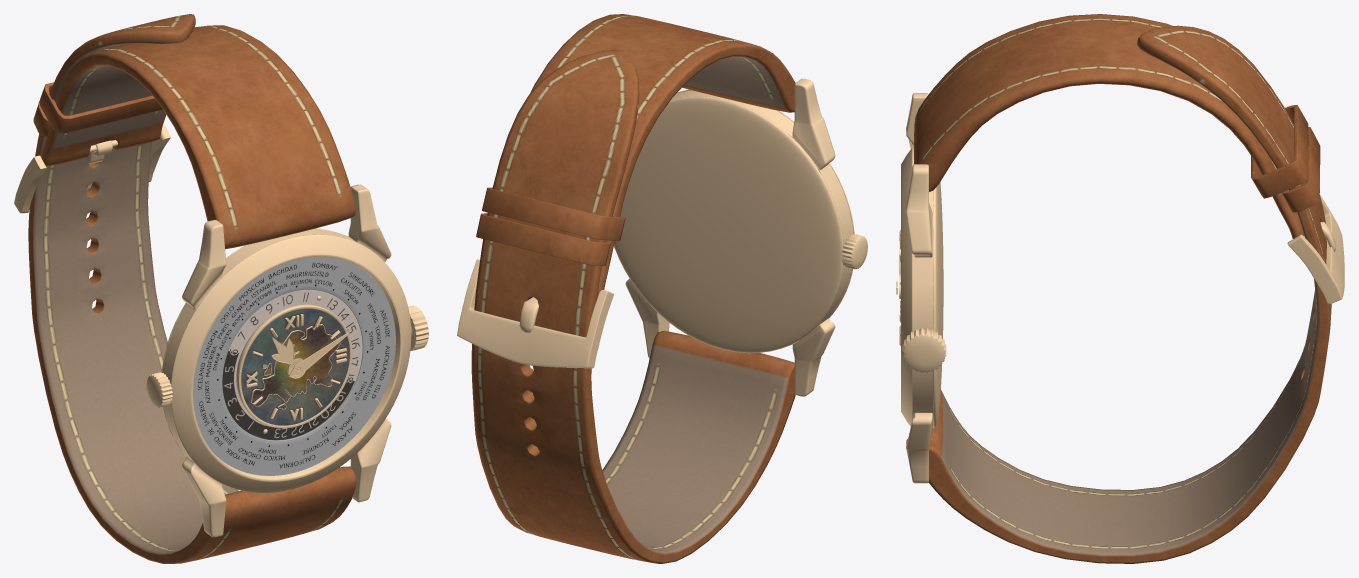
The picture shows the model from 3 angles, left to right: view 1: azimuth 30°, elevation 25°; view 2: azimuth 150°, elevation 25°; view 3: azimuth 270°, elevation 25°; orthographic projection.
Visible parts, largest first — view 1: with_uv_Object003, Object002_watch_0, Object001_watch_0, Hand 1; view 2: with_uv_Object003, Object003_watch_0, Object002_watch_0; view 3: with_uv_Object003, Object002_watch_0, Object003_watch_0.
Boxes of the visible parts, bbox=[...] form: with_uv_Object003: bbox=[14, 14, 428, 563]; Object002_watch_0: bbox=[162, 184, 391, 537]; Object001_watch_0: bbox=[271, 337, 305, 378]; Hand 1: bbox=[288, 332, 349, 377]; with_uv_Object003: bbox=[457, 14, 867, 563]; Object003_watch_0: bbox=[614, 96, 843, 353]; Object002_watch_0: bbox=[625, 78, 853, 396]; with_uv_Object003: bbox=[899, 14, 1344, 563]; Object002_watch_0: bbox=[906, 93, 933, 483]; Object003_watch_0: bbox=[933, 182, 943, 427].
Size of what is drawn, in the model's own units: 2.24 by 3.93 by 3.21.
1 material, 1 textured.
